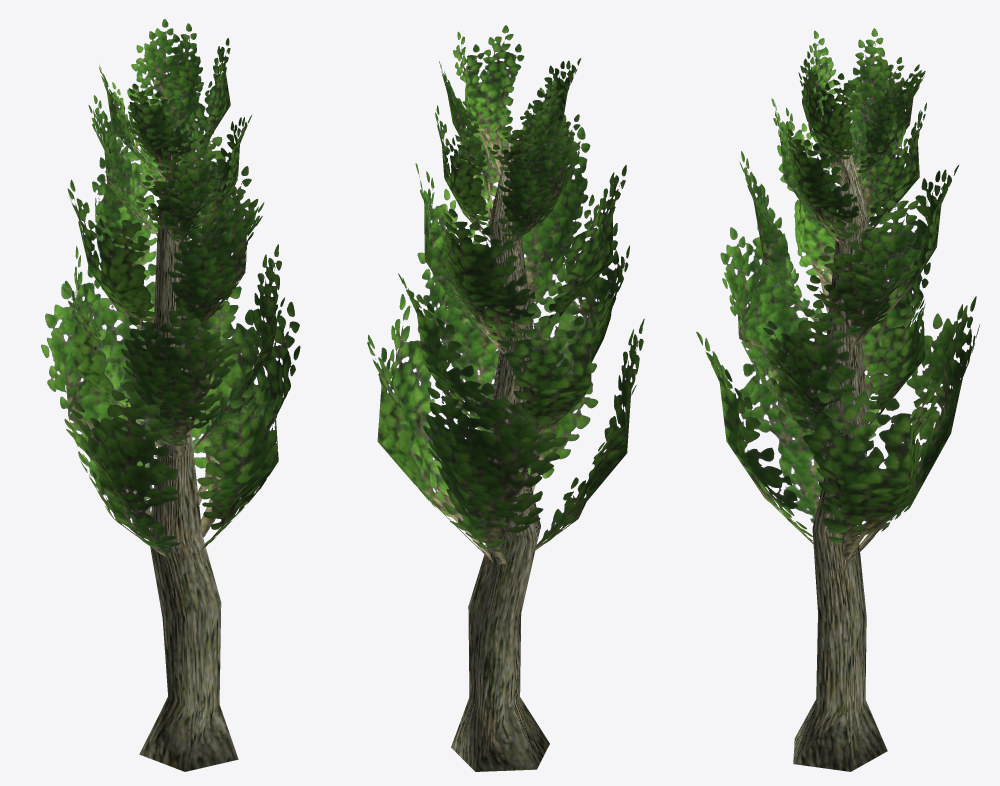
The model's file is broadleavedtreeC_mesh.obj.
The picture shows the model from 3 angles, left to right: view 1: azimuth 30°, elevation 25°; view 2: azimuth 150°, elevation 25°; view 3: azimuth 270°, elevation 25°; orthographic projection. The views are drawn at different scales.
Parts seen in each view (by area): view 1: CombinedPolyh000, CombinedPolyh001; view 2: CombinedPolyh000, CombinedPolyh001; view 3: CombinedPolyh000, CombinedPolyh001.
Part boxes in pixels (left/top/right/bottom): CombinedPolyh000: left=41, top=19, right=300, bottom=557; CombinedPolyh001: left=139, top=156, right=238, bottom=771; CombinedPolyh000: left=367, top=25, right=644, bottom=564; CombinedPolyh001: left=451, top=131, right=549, bottom=771; CombinedPolyh000: left=696, top=28, right=979, bottom=560; CombinedPolyh001: left=793, top=149, right=887, bottom=771.
Size of the model in its own units: 3.85 by 10.16 by 3.91.
2 materials, 2 textured.
